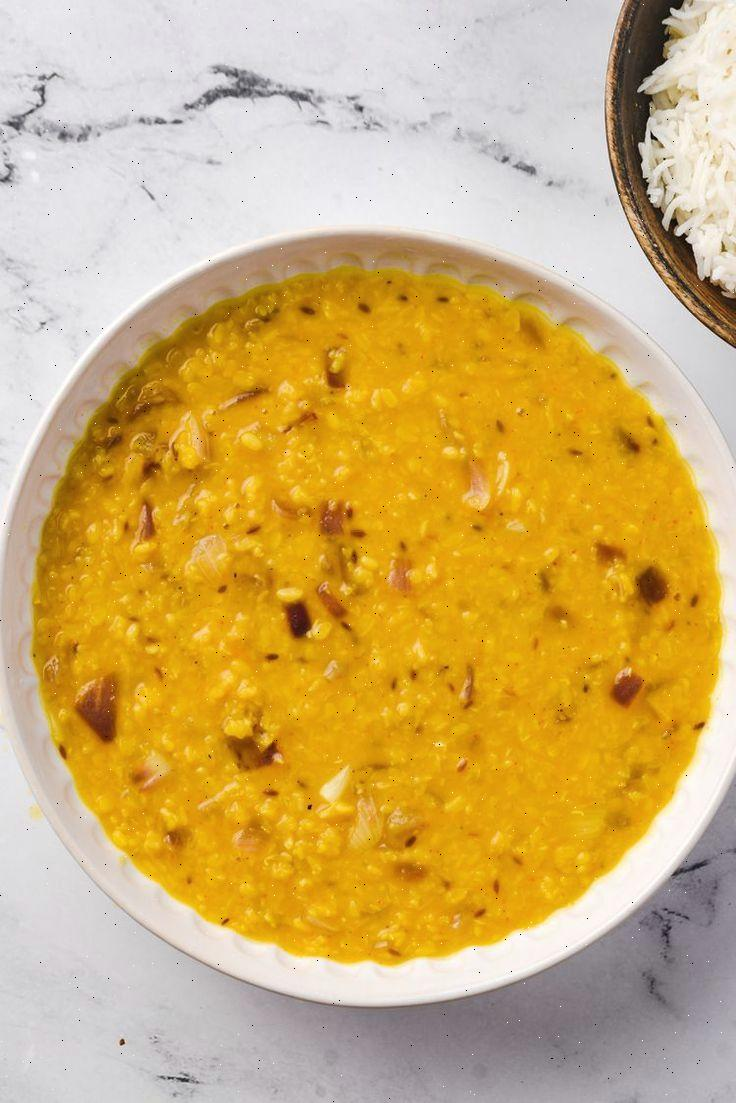daal: (57, 329, 717, 1007)
rice: (637, 9, 736, 324)
